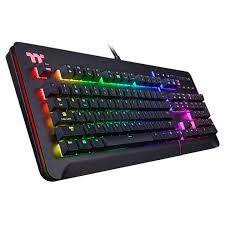keyboard: (4, 32, 216, 195)
